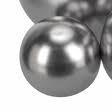ironball: (15, 13, 102, 101), (7, 0, 111, 38), (102, 0, 111, 110)
